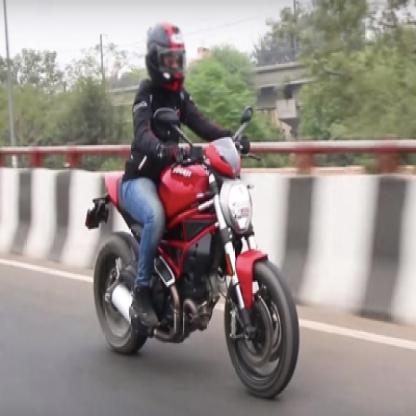Helmet: (139, 20, 196, 98)
